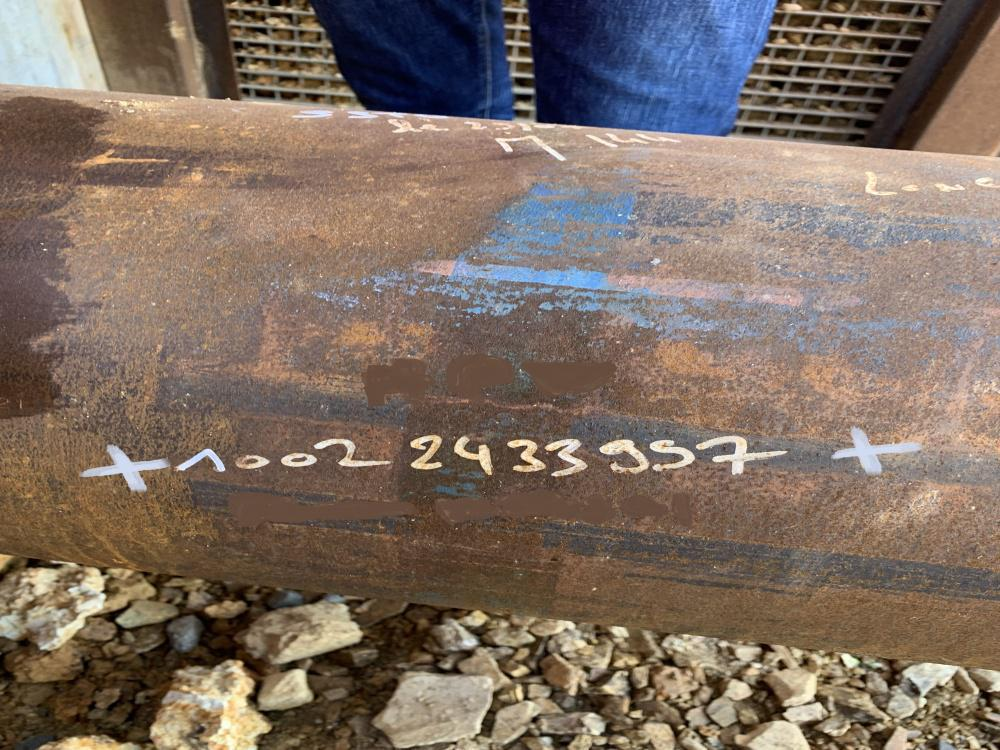+: (828, 427, 919, 475), (81, 446, 170, 494)
0: (236, 451, 268, 473), (280, 450, 318, 468)
1: (176, 444, 226, 478)
2: (314, 438, 391, 472), (407, 432, 444, 474)
3: (546, 436, 586, 478), (502, 436, 546, 474)
4: (453, 436, 496, 476)
7: (696, 433, 784, 479)
9: (598, 437, 648, 478), (648, 438, 692, 472)
